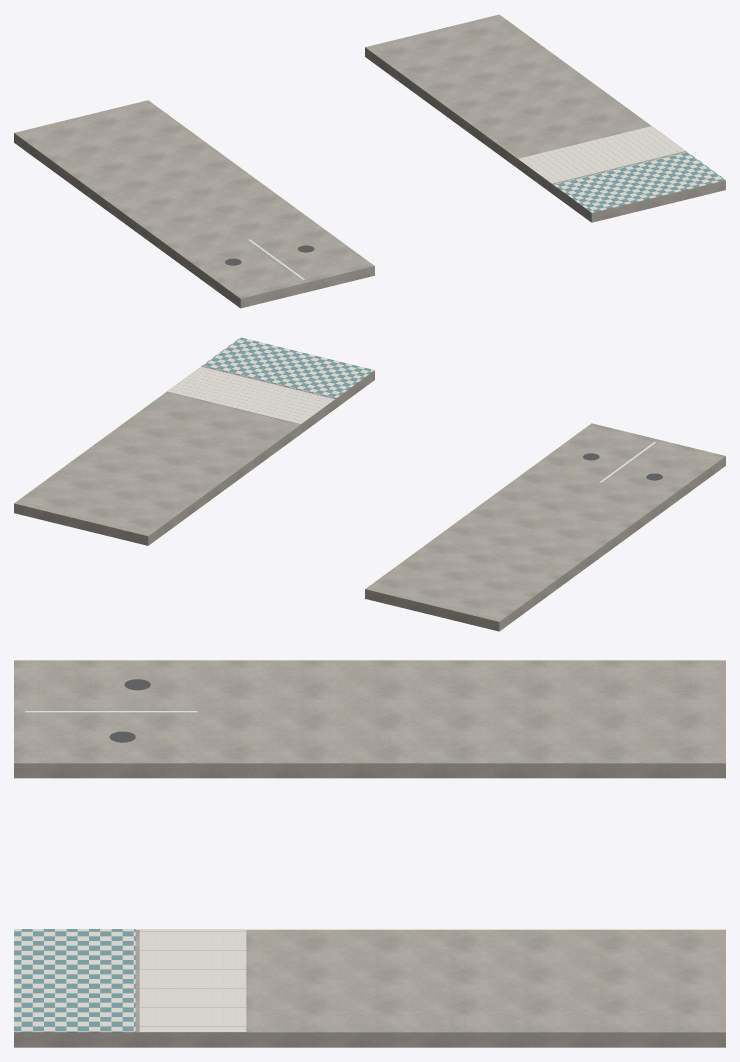
File: ground_slab.glb
3 views of the same model, one above another, from view 1: azimuth 30°, elevation 25°; view 2: azimuth 150°, elevation 25°; view 3: azimuth 270°, elevation 25° (orthographic). The views are drawn at different scales.
Visible parts, largest first — view 1: ground_slab_conc_s, ground_slab_vinyl_f, ground_slab_vinyl_k; view 2: ground_slab_conc_s, ground_slab_vinyl_f, ground_slab_vinyl_k; view 3: ground_slab_conc_s, ground_slab_vinyl_f, ground_slab_vinyl_k, ground_slab_grout.
Boxes of the visible parts, x1,y1,x2,y2 form: ground_slab_conc_s: (14, 14, 725, 308); ground_slab_vinyl_f: (518, 126, 725, 212); ground_slab_vinyl_k: (553, 152, 724, 212); ground_slab_conc_s: (14, 366, 725, 631); ground_slab_vinyl_f: (167, 337, 374, 424); ground_slab_vinyl_k: (202, 337, 371, 398); ground_slab_conc_s: (14, 660, 725, 1047); ground_slab_vinyl_f: (14, 929, 246, 1032); ground_slab_vinyl_k: (14, 929, 135, 1032); ground_slab_grout: (21, 929, 235, 1031).
Size of the model in its own units: 23.5 by 0.462 by 19.
Materials: 6 (1 with a texture image).
